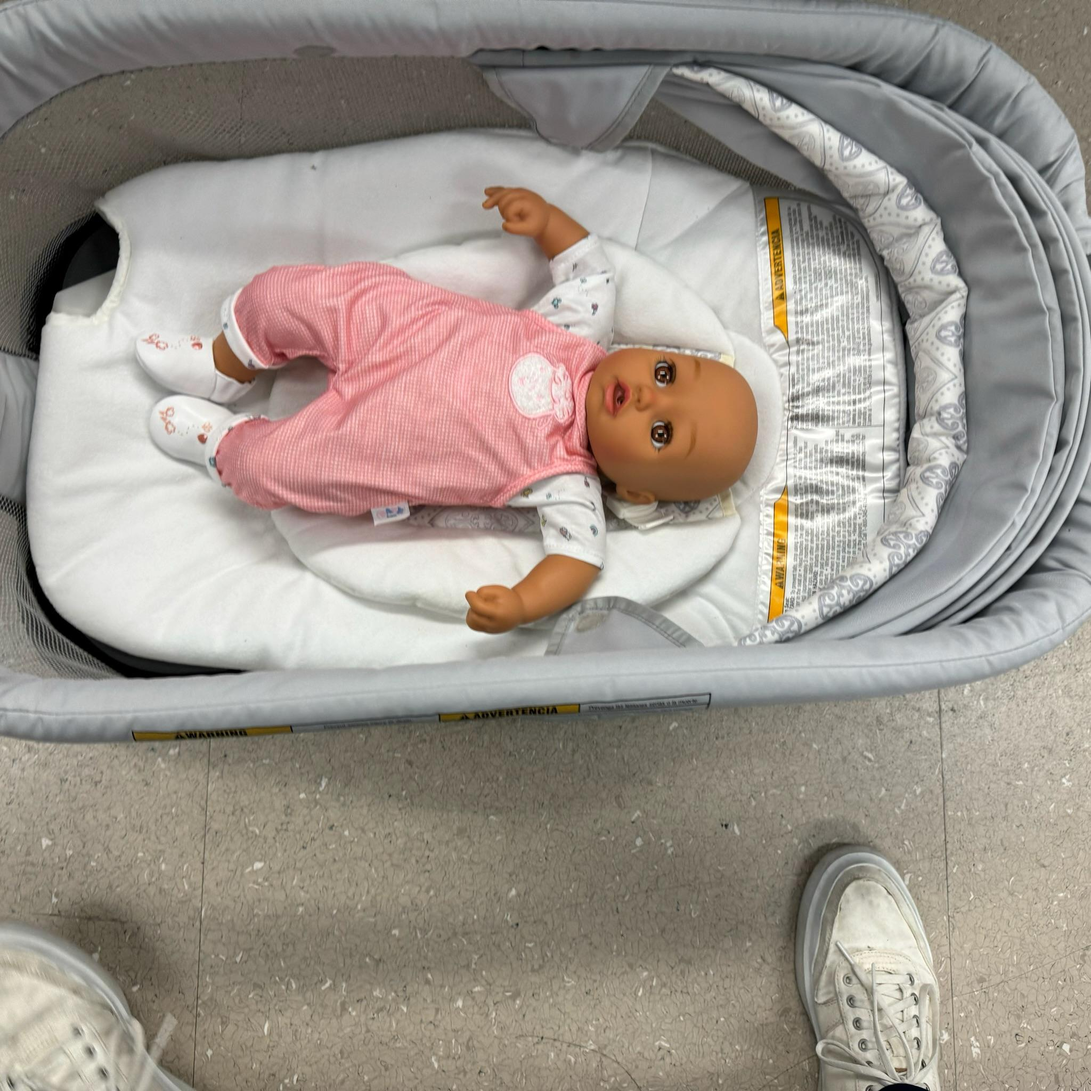baby: (128, 173, 781, 632)
